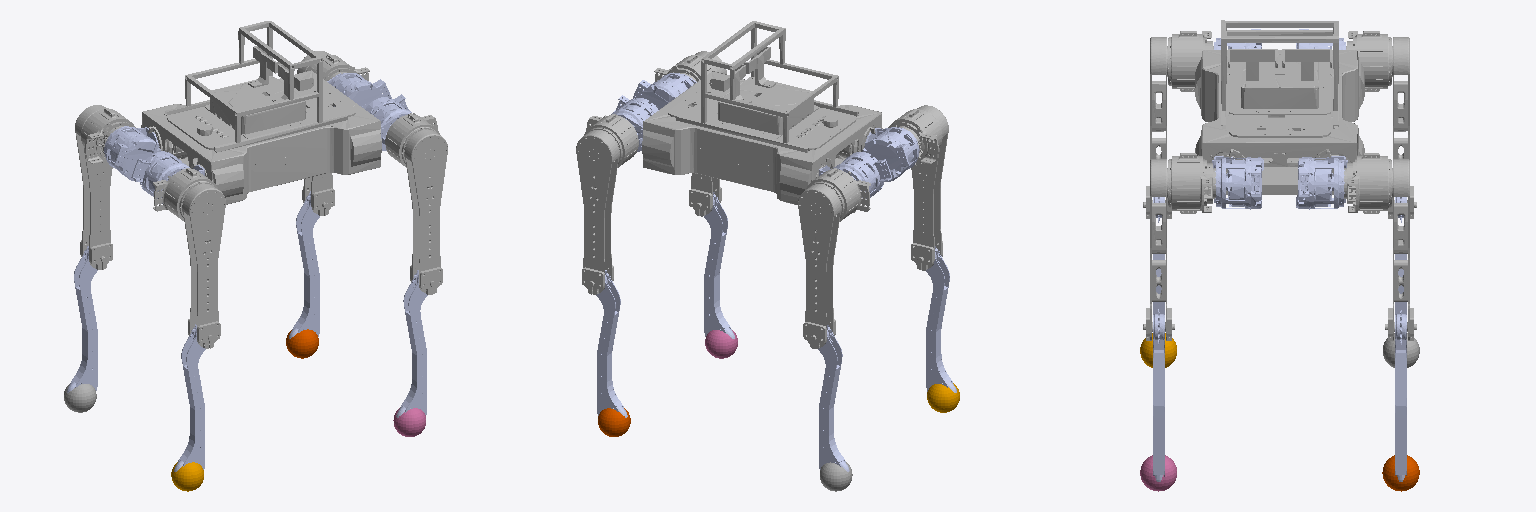
--- Facts derived from the render (not from the file) ---
3 views of the same robot in one strip: view 1: azimuth 30°, elevation 25°; view 2: azimuth 150°, elevation 25°; view 3: azimuth 270°, elevation 25° (orthographic).
Model stoch3 with 18 links and 17 joints (12 revolute, 5 fixed), rooted at base_link, posed every joint at zero.
Visible links, largest first — view 1: base_link, br_thigh_link, fr_thigh_link, bl_thigh_link, bl_shank_link, fl_shank_link, br_shank_link, fr_shank_link, bl_abd_link, fl_thigh_link, br_abd_link, fl_abd_link (+5 smaller); view 2: base_link, bl_thigh_link, fl_thigh_link, br_thigh_link, fr_shank_link, fl_shank_link, br_shank_link, bl_shank_link, br_abd_link, fr_thigh_link, bl_abd_link, fr_abd_link (+5 smaller); view 3: base_link, fr_thigh_link, fl_thigh_link, br_thigh_link, bl_thigh_link, fl_abd_link, fr_abd_link, fr_shank_link, fl_shank_link, fl_foot_link, fr_foot_link, bl_foot_link (+1 smaller).
Link boxes in pixels (x1=…): base_link: x1=141, y1=21, x2=381, y2=204; br_thigh_link: x1=153, y1=168, x2=225, y2=348; fr_thigh_link: x1=385, y1=113, x2=447, y2=294; bl_thigh_link: x1=75, y1=105, x2=135, y2=269; bl_shank_link: x1=67, y1=246, x2=97, y2=392; fl_shank_link: x1=289, y1=191, x2=319, y2=338; br_shank_link: x1=174, y1=324, x2=205, y2=471; fr_shank_link: x1=396, y1=270, x2=427, y2=417; bl_abd_link: x1=104, y1=126, x2=160, y2=181; fl_thigh_link: x1=297, y1=51, x2=369, y2=215; br_abd_link: x1=131, y1=151, x2=204, y2=203; fl_abd_link: x1=327, y1=73, x2=391, y2=108; base_link: x1=642, y1=21, x2=882, y2=204; bl_thigh_link: x1=798, y1=168, x2=870, y2=348; fl_thigh_link: x1=576, y1=114, x2=638, y2=294; br_thigh_link: x1=888, y1=105, x2=948, y2=270; fr_shank_link: x1=704, y1=192, x2=734, y2=338; fl_shank_link: x1=596, y1=270, x2=627, y2=417; br_shank_link: x1=926, y1=246, x2=956, y2=392; bl_shank_link: x1=818, y1=325, x2=849, y2=471; br_abd_link: x1=862, y1=127, x2=919, y2=181; fr_thigh_link: x1=654, y1=51, x2=726, y2=216; bl_abd_link: x1=819, y1=152, x2=891, y2=198; fr_abd_link: x1=633, y1=73, x2=696, y2=109; base_link: x1=1195, y1=20, x2=1364, y2=194; fr_thigh_link: x1=1143, y1=153, x2=1215, y2=340; fl_thigh_link: x1=1344, y1=153, x2=1416, y2=340; br_thigh_link: x1=1143, y1=31, x2=1213, y2=218; bl_thigh_link: x1=1346, y1=31, x2=1416, y2=218; fl_abd_link: x1=1296, y1=156, x2=1347, y2=209; fr_abd_link: x1=1212, y1=156, x2=1263, y2=209; fr_shank_link: x1=1153, y1=309, x2=1164, y2=481; fl_shank_link: x1=1395, y1=310, x2=1406, y2=481; fl_foot_link: x1=1382, y1=455, x2=1419, y2=491; fr_foot_link: x1=1140, y1=455, x2=1176, y2=491; bl_foot_link: x1=1383, y1=333, x2=1419, y2=367.
Size in the robot's own frame: 0.6912 by 0.5242 by 0.866 metres.
Meshes: 13 distinct files referenced, 13 mesh visuals loaded (13 binary STL).

The robot description file, URDF, robot "stoch3":
<?xml version="1.0" encoding="utf-8"?>
<!-- =================================================================================== -->
<!-- |    This document was autogenerated by xacro from stoch3.urdf.xacro              | -->
<!-- |    EDITING THIS FILE BY HAND IS NOT RECOMMENDED                                 | -->
<!-- =================================================================================== -->
<robot name="stoch3">
  <!-- <link name="world">
      </link>
  <joint name="world_joint" type="floating">
    <parent link="world"/>
    <child link="base_link"/>
  </joint> -->

  <link name="base_link">
    <inertial>
      <origin rpy="0 0 0" xyz="-0.00066643 -4.8401E-05 0.068162"/>
      <mass value="9.7565"/>
      <!--mass value="9.7565"/ -->
      <inertia ixx="0.028321" ixy="7.0431E-06" ixz="1.0437E-05" iyy="0.033624" iyz="-2.4398E-08" izz="0.053863"/>
    </inertial>
    <visual>
      <origin rpy="0 0 0" xyz="0 0 0"/>
      <geometry>
        <mesh filename="../meshes/base_link.STL"/>
      </geometry>
      <material name="">
        <color rgba="0.75294 0.75294 0.75294 1"/>
      </material>
    </visual>
    <collision>
      <origin rpy="0 0 0" xyz="0 0 0"/>
      <geometry>
        <mesh filename="../meshes/base_link.STL"/>
      </geometry>
    </collision>
  </link>
  <link name="fl_abd_link">
    <inertial>
      <origin rpy="0 0 0" xyz="0.061349 -0.019504 -7.6667E-06"/>
      <mass value="0.94517"/>
      <inertia ixx="0.00061416" ixy="5.7906E-07" ixz="-3.8412E-06" iyy="0.0010243" iyz="-1.6902E-06" izz="0.00060713"/>
    </inertial>
    <visual>
      <origin rpy="0 0 0" xyz="0 0 0"/>
      <geometry>
        <mesh filename="../meshes/fl_abd_link.STL"/>
      </geometry>
      <material name="">
        <color rgba="0.79216 0.81961 0.93333 1"/>
      </material>
    </visual>
    <collision>
      <origin rpy="0 0 0" xyz="0 0 0"/>
      <geometry>
        <mesh filename="../meshes/fl_abd_link.STL"/>
      </geometry>
    </collision>
  </link>
  <joint name="fl_abd_joint" type="revolute">
    <origin rpy="0 0 0" xyz="0.206917503877324 0.101500000000002 0.0540300000000024"/>
    <parent link="base_link"/>
    <child link="fl_abd_link"/>
    <axis xyz="1 0 0"/>
    <limit effort="100" lower="-1.5708" upper="1.5708" velocity="100"/>
  </joint>
  <link name="fl_thigh_link">
    <inertial>
      <origin rpy="0 0 0" xyz="0.0014376 0.077483 -0.055275"/>
      <mass value="2.4957"/>
      <inertia ixx="0.0049396" ixy="4.7834E-05" ixz="-3.2241E-06" iyy="0.0054131" iyz="-1.5857E-06" izz="0.0011512"/>
    </inertial>
    <visual>
      <origin rpy="0 0 0" xyz="0 0 0"/>
      <geometry>
        <mesh filename="../meshes/fl_thigh_link.STL"/>
      </geometry>
      <material name="">
        <color rgba="0.75294 0.75294 0.75294 1"/>
      </material>
    </visual>
    <collision>
      <origin rpy="0 0 0" xyz="0 0 0"/>
      <geometry>
        <mesh filename="../meshes/fl_thigh_link.STL"/>
      </geometry>
    </collision>
  </link>
  <joint name="fl_hip_joint" type="revolute">
    <origin rpy="0 -3.14584042145611E-05 0" xyz="0.06378709521538 0.0139999999999987 0"/>
    <parent link="fl_abd_link"/>
    <child link="fl_thigh_link"/>
    <axis xyz="0 1 0"/>
    <limit effort="100" lower="-1.57078" upper="3.14159" velocity="100"/>
  </joint>
  <link name="fl_shank_link">
    <inertial>
      <origin rpy="0 0 0" xyz="-0.014616 -6.6962E-07 -0.11828"/>
      <mass value="0.37918"/>
      <inertia ixx="0.0021646" ixy="5.617E-09" ixz="-4.4468E-05" iyy="0.0022225" iyz="3.9894E-08" izz="6.6686E-05"/>
    </inertial>
    <visual>
      <origin rpy="0 0 0" xyz="0 0 0"/>
      <geometry>
        <mesh filename="../meshes/fl_shank_link.STL"/>
      </geometry>
      <material name="">
        <color rgba="0.79216 0.81961 0.93333 1"/>
      </material>
    </visual>
    <collision>
      <origin rpy="0 0 0" xyz="0 0 0"/>
      <geometry>
        <mesh filename="../meshes/fl_shank_link.STL"/>
      </geometry>
    </collision>
  </link>
  <joint name="fl_knee_joint" type="revolute">
    <origin rpy="0 3.14584042149928E-05 0" xyz="0 0.111399999999998 -0.296999999853041"/>
    <parent link="fl_thigh_link"/>
    <child link="fl_shank_link"/>
    <axis xyz="0 1 0"/>
    <limit effort="100" lower="-3.14159" upper="0" velocity="100"/>
  </joint>
  <link name="fr_abd_link">
    <inertial>
      <origin rpy="0 0 0" xyz="0.06156 0.019504 -0.00021624"/>
      <mass value="0.94517"/>
      <inertia ixx="0.00061326" ixy="3.2241E-07" ixz="1.5152E-08" iyy="0.0010243" iyz="-3.8552E-06" izz="0.00060803"/>
    </inertial>
    <visual>
      <origin rpy="0 0 0" xyz="0 0 0"/>
      <geometry>
        <mesh filename="../meshes/fr_abd_link.STL"/>
      </geometry>
      <material name="">
        <color rgba="0.79216 0.81961 0.93333 1"/>
      </material>
    </visual>
    <collision>
      <origin rpy="0 0 0" xyz="0 0 0"/>
      <geometry>
        <mesh filename="../meshes/fr_abd_link.STL"/>
      </geometry>
    </collision>
  </link>
  <joint name="fr_abd_joint" type="revolute">
    <origin rpy="0 0 0" xyz="0.206925357517166 -0.101499999999999 0.0540300000000003"/>
    <parent link="base_link"/>
    <child link="fr_abd_link"/>
    <axis xyz="1 0 0"/>
    <limit effort="100" lower="-1.5708" upper="1.5708" velocity="100"/>
  </joint>
  <link name="fr_thigh_link">
    <inertial>
      <origin rpy="0 0 0" xyz="0.00144107858196152 -0.07748346487516 -0.0551703662273829"/>
      <mass value="2.49567510872212"/>
      <inertia ixx="0.00493964200419569" ixy="-4.78342957937469E-05" ixz="3.2241369041665E-06" iyy="0.00541305231980369" iyz="-1.61934782864799E-06" izz="0.00115115548345638"/>
    </inertial>
    <visual>
      <origin rpy="0 0 0" xyz="0 0 0"/>
      <geometry>
        <mesh filename="../meshes/fr_thigh_link.STL"/>
      </geometry>
      <material name="">
        <color rgba="0.752941176470588 0.752941176470588 0.752941176470588 1"/>
      </material>
    </visual>
    <collision>
      <origin rpy="0 0 0" xyz="0 0 0"/>
      <geometry>
        <mesh filename="../meshes/fr_thigh_link.STL"/>
      </geometry>
    </collision>
  </link>
  <joint name="fr_hip_joint" type="revolute">
    <origin rpy="0 3.145840420901E-05 0" xyz="0.06377924157554 -0.0139999999999988 0"/>
    <parent link="fr_abd_link"/>
    <child link="fr_thigh_link"/>
    <axis xyz="0 1 0"/>
    <limit effort="100" lower="-1.57078" upper="3.14159" velocity="100"/>
  </joint>
  <link name="fr_shank_link">
    <inertial>
      <origin rpy="0 0 0" xyz="-0.014616 -6.6962E-07 -0.11828"/>
      <mass value="0.37918"/>
      <inertia ixx="0.0021646" ixy="5.617E-09" ixz="-4.4468E-05" iyy="0.0022225" iyz="3.9894E-08" izz="6.6686E-05"/>
    </inertial>
    <visual>
      <origin rpy="0 0 0" xyz="0 0 0"/>
      <geometry>
        <mesh filename="../meshes/fr_shank_link.STL"/>
      </geometry>
      <material name="">
        <color rgba="0.79216 0.81961 0.93333 1"/>
      </material>
    </visual>
    <collision>
      <origin rpy="0 0 0" xyz="0 0 0"/>
      <geometry>
        <mesh filename="../meshes/fr_shank_link.STL"/>
      </geometry>
    </collision>
  </link>
  <joint name="fr_knee_joint" type="revolute">
    <origin rpy="0 -3.14584042085783E-05 0" xyz="0 -0.111599999999999 -0.29699999985303"/>
    <parent link="fr_thigh_link"/>
    <child link="fr_shank_link"/>
    <axis xyz="0 1 0"/>
    <limit effort="100" lower="-3.14159" upper="0" velocity="100"/>
  </joint>
  <link name="bl_abd_link">
    <inertial>
      <origin rpy="0 0 0" xyz="0.030793 -0.019504 -0.00042262"/>
      <mass value="0.94517"/>
      <inertia ixx="0.00061091" ixy="-9.6216E-07" ixz="-1.2691E-06" iyy="0.0010243" iyz="1.7068E-06" izz="0.00061038"/>
    </inertial>
    <visual>
      <origin rpy="0 0 0" xyz="0 0 0"/>
      <geometry>
        <mesh filename="../meshes/bl_abd_link.STL"/>
      </geometry>
      <material name="">
        <color rgba="0.79216 0.81961 0.93333 1"/>
      </material>
    </visual>
    <collision>
      <origin rpy="0 0 0" xyz="0 0 0"/>
      <geometry>
        <mesh filename="../meshes/bl_abd_link.STL"/>
      </geometry>
    </collision>
  </link>
  <joint name="bl_abd_joint" type="revolute">
    <origin rpy="0 0 0" xyz="-0.299402452130055 0.101499999999997 0.0540300000000009"/>
    <parent link="base_link"/>
    <child link="bl_abd_link"/>
    <axis xyz="1 0 0"/>
    <limit effort="100" lower="-1.5708" upper="1.5708" velocity="100"/>
  </joint>
  <link name="bl_thigh_link">
    <inertial>
      <origin rpy="0 0 0" xyz="-0.00144107858108192 0.0774834648849106 -0.0551703662338023"/>
      <mass value="2.49567510818258"/>
      <inertia ixx="0.00493964200383586" ixy="-4.78342957989956E-05" ixz="-3.22413680518202E-06" iyy="0.0054130523194199" iyz="1.61934780851157E-06" izz="0.00115115548343042"/>
    </inertial>
    <visual>
      <origin rpy="0 0 0" xyz="0 0 0"/>
      <geometry>
        <mesh filename="../meshes/bl_thigh_link.STL"/>
      </geometry>
      <material name="">
        <color rgba="0.752941176470588 0.752941176470588 0.752941176470588 1"/>
      </material>
    </visual>
    <collision>
      <origin rpy="0 0 0" xyz="0 0 0"/>
      <geometry>
        <mesh filename="../meshes/bl_thigh_link.STL"/>
      </geometry>
    </collision>
  </link>
  <joint name="bl_hip_joint" type="revolute">
    <origin rpy="0 -3.14584042145611E-05 0" xyz="0.0286978530373435 0.0139999999999997 0"/>
    <parent link="bl_abd_link"/>
    <child link="bl_thigh_link"/>
    <axis xyz="0 1 0"/>
    <limit effort="100" lower="-1.57078" upper="3.14159" velocity="100"/>
  </joint>
  <link name="bl_shank_link">
    <inertial>
      <origin rpy="0 0 0" xyz="-0.014616 -6.6962E-07 -0.11828"/>
      <mass value="0.37918"/>
      <inertia ixx="0.0021646" ixy="5.617E-09" ixz="-4.4468E-05" iyy="0.0022225" iyz="3.9894E-08" izz="6.6686E-05"/>
    </inertial>
    <visual>
      <origin rpy="0 0 0" xyz="0 0 0"/>
      <geometry>
        <mesh filename="../meshes/bl_shank_link.STL"/>
      </geometry>
      <material name="">
        <color rgba="0.79216 0.81961 0.93333 1"/>
      </material>
    </visual>
    <collision>
      <origin rpy="0 0 0" xyz="0 0 0"/>
      <geometry>
        <mesh filename="../meshes/bl_shank_link.STL"/>
      </geometry>
    </collision>
  </link>
  <joint name="bl_knee_joint" type="revolute">
    <origin rpy="0 3.14584042094417E-05 0" xyz="0 0.111599999999496 -0.29699999985304"/>
    <parent link="bl_thigh_link"/>
    <child link="bl_shank_link"/>
    <axis xyz="0 1 0"/>
    <limit effort="100" lower="-3.14159" upper="0" velocity="100"/>
  </joint>
  <link name="br_abd_link">
    <inertial>
      <origin rpy="0 0 0" xyz="0.031108 0.019504 -1.7708E-05"/>
      <mass value="0.94517"/>
      <inertia ixx="0.00061475" ixy="8.7419E-07" ixz="3.1106E-06" iyy="0.0010243" iyz="1.7938E-06" izz="0.00060654"/>
    </inertial>
    <visual>
      <origin rpy="0 0 0" xyz="0 0 0"/>
      <geometry>
        <mesh filename="../meshes/br_abd_link.STL"/>
      </geometry>
      <material name="">
        <color rgba="0.79216 0.81961 0.93333 1"/>
      </material>
    </visual>
    <collision>
      <origin rpy="0 0 0" xyz="0 0 0"/>
      <geometry>
        <mesh filename="../meshes/br_abd_link.STL"/>
      </geometry>
    </collision>
  </link>
  <joint name="br_abd_joint" type="revolute">
    <origin rpy="0 0 0" xyz="-0.299402452130055 -0.101500000000005 0.0540300000000005"/>
    <parent link="base_link"/>
    <child link="br_abd_link"/>
    <axis xyz="1 0 0"/>
    <limit effort="100" lower="-1.5708" upper="1.5708" velocity="100"/>
  </joint>
  <link name="br_thigh_link">
    <inertial>
      <origin rpy="0 0 0" xyz="-0.00150303818321485 -0.0774834645949825 -0.0552213173300917"/>
      <mass value="2.49567512655825"/>
      <inertia ixx="0.0049362160738861" ixy="4.96261951245898E-05" ixz="2.5269174510805E-06" iyy="0.00541305233737715" iyz="1.18125628096648E-07" izz="0.00115458143484649"/>
    </inertial>
    <visual>
      <origin rpy="0 0 0" xyz="0 0 0"/>
      <geometry>
        <mesh filename="../meshes/br_thigh_link.STL"/>
      </geometry>
      <material name="">
        <color rgba="0.752941176470588 0.752941176470588 0.752941176470588 1"/>
      </material>
    </visual>
    <collision>
      <origin rpy="0 0 0" xyz="0 0 0"/>
      <geometry>
        <mesh filename="../meshes/br_thigh_link.STL"/>
      </geometry>
    </collision>
  </link>
  <joint name="br_hip_joint" type="revolute">
    <origin rpy="0 3.14584042201122E-05 0" xyz="0.0286978530373517 -0.0139999999999956 0"/>
    <parent link="br_abd_link"/>
    <child link="br_thigh_link"/>
    <axis xyz="0 1 0"/>
    <limit effort="100" lower="-1.57078" upper="3.14159" velocity="100"/>
  </joint>
  <link name="br_shank_link">
    <inertial>
      <origin rpy="0 0 0" xyz="-0.014616 -6.6962E-07 -0.11828"/>
      <mass value="0.37918"/>
      <inertia ixx="0.0021646" ixy="5.617E-09" ixz="-4.4468E-05" iyy="0.0022225" iyz="3.9894E-08" izz="6.6686E-05"/>
    </inertial>
    <visual>
      <origin rpy="0 0 0" xyz="0 0 0"/>
      <geometry>
        <mesh filename="../meshes/br_shank_link.STL"/>
      </geometry>
      <material name="">
        <color rgba="0.79216 0.81961 0.93333 1"/>
      </material>
    </visual>
    <collision>
      <origin rpy="0 0 0" xyz="0 0 0"/>
      <geometry>
        <mesh filename="../meshes/br_shank_link.STL"/>
      </geometry>
    </collision>
  </link>
  <joint name="br_knee_joint" type="revolute">
    <origin rpy="0 -3.14584042141294E-05 0" xyz="0 -0.111600000000005 -0.296999999853014"/>
    <parent link="br_thigh_link"/>
    <child link="br_shank_link"/>
    <axis xyz="0 1 0"/>
    <limit effort="100" lower="-3.14159" upper="0" velocity="100"/>
  </joint>
  <link name="fl_foot_link">
    <visual>
      <origin rpy="0 0 0" xyz="-0.04 0 -0.02"/>
      <geometry>
        <sphere radius="0.035"/>
      </geometry>
    </visual>
    <collision>
      <origin rpy="0 0 0" xyz="-0.04 0 -0.02"/>
      <geometry>
        <sphere radius="0.035"/>
      </geometry>
    </collision>
    <inertial>
      <origin rpy="0 0 0" xyz="-0.04 0 -0.02"/>
      <mass value="0.05"/>
      <inertia ixx="1E-7" ixy ="0" ixz = "0" iyy="1E-7" iyz="0"  izz="1E-7"/>
    </inertial>
  </link>
  <joint name="fl_ankle_joint" type="fixed" dont_collapse="true">
    <parent link="fl_shank_link"/>
    <child link="fl_foot_link"/>
    <origin rpy="0 0 0" xyz="0 0 -0.3"/>
  </joint>
  <link name="fr_foot_link">
    <visual>
      <origin rpy="0 0 0" xyz="-0.04 0 -0.02"/>
      <geometry>
        <sphere radius="0.035"/>
      </geometry>
    </visual>
    <collision>
      <origin rpy="0 0 0" xyz="-0.04 0 -0.02"/>
      <geometry>
        <sphere radius="0.035"/>
      </geometry>
    </collision>
   <inertial>
      <origin rpy="0 0 0" xyz="-0.04 0 -0.02"/>
      <mass value="0.05"/>
      <inertia ixx="1E-7" ixy ="0" ixz = "0" iyy="1E-7" iyz="0"  izz="1E-7"/>
    </inertial>

  </link>  
  <joint name="fr_ankle_joint" type="fixed" dont_collapse="true">
    <parent link="fr_shank_link"/>
    <child link="fr_foot_link"/>
    <origin rpy="0 0 0" xyz="0 0 -0.3"/>
  </joint>
  <link name="bl_foot_link">
    <visual>
      <origin rpy="0 0 0" xyz="-0.04 0 -0.02"/>
      <geometry>
        <sphere radius="0.035"/>
      </geometry>
    </visual>
    <collision>
      <origin rpy="0 0 0" xyz="-0.04 0 -0.02"/>
      <geometry>
        <sphere radius="0.035"/>
      </geometry>
    </collision>
   <inertial>
      <origin rpy="0 0 0" xyz="-0.04 0 -0.02"/>
      <mass value="0.05"/>
      <inertia ixx="1E-7" ixy ="0" ixz = "0" iyy="1E-7" iyz="0"  izz="1E-7"/>
    </inertial>
  </link>  
  <joint name="bl_ankle_joint" type="fixed" dont_collapse="true">
    <parent link="bl_shank_link"/>
    <child link="bl_foot_link"/>
    <origin rpy="0 0 0" xyz="0 0 -0.3"/>
  </joint>
  <link name="br_foot_link">
      <visual>
      <origin rpy="0 0 0" xyz="-0.04 0 -0.02"/>
      <geometry>
        <sphere radius="0.035"/>
      </geometry>
    </visual>
    <collision>
      <origin rpy="0 0 0" xyz="-0.04 0 -0.02"/>
      <geometry>
        <sphere radius="0.035"/>
      </geometry>
    </collision>

   <inertial>
      <origin rpy="0 0 0" xyz="-0.04 0 -0.02"/>
      <mass value="0.05"/>
      <inertia ixx="1E-7" ixy ="0" ixz = "0" iyy="1E-7" iyz="0"  izz="1E-7"/>
    </inertial>

  </link>  
  <joint name="br_ankle_joint" type="fixed" dont_collapse="true">
    <parent link="br_shank_link"/>
    <child link="br_foot_link"/>
    <origin rpy="0 0 0" xyz="0 0 -0.3"/>
  </joint>
  <transmission name="fl_abd_trans">
    <type>transmission_interface/SimpleTransmission</type>
    <joint name="fl_abd_joint">
      <hardwareInterface>hardware_interface/PosVelEffJointInterface</hardwareInterface>
    </joint>
    <actuator name="fl_abd_motor">
      <mechanicalReduction>1</mechanicalReduction>
    </actuator>
  </transmission>
  <transmission name="fl_hip_trans">
    <type>transmission_interface/SimpleTransmission</type>
    <joint name="fl_hip_joint">
      <hardwareInterface>hardware_interface/PosVelEffJointInterface</hardwareInterface>
    </joint>
    <actuator name="fl_hip_motor">
      <mechanicalReduction>1</mechanicalReduction>
    </actuator>
  </transmission>
  <transmission name="fl_knee_trans">
    <type>transmission_interface/SimpleTransmission</type>
    <joint name="fl_knee_joint">
      <hardwareInterface>hardware_interface/PosVelEffJointInterface</hardwareInterface>
    </joint>
    <actuator name="fl_knee_motor">
      <mechanicalReduction>1</mechanicalReduction>
    </actuator>
  </transmission>
  <transmission name="bl_abd_trans">
    <type>transmission_interface/SimpleTransmission</type>
    <joint name="bl_abd_joint">
      <hardwareInterface>hardware_interface/PosVelEffJointInterface</hardwareInterface>
    </joint>
    <actuator name="bl_abd_motor">
      <mechanicalReduction>1</mechanicalReduction>
    </actuator>
  </transmission>
  <transmission name="bl_hip_trans">
    <type>transmission_interface/SimpleTransmission</type>
    <joint name="bl_hip_joint">
      <hardwareInterface>hardware_interface/PosVelEffJointInterface</hardwareInterface>
    </joint>
    <actuator name="bl_hip_motor">
      <mechanicalReduction>1</mechanicalReduction>
    </actuator>
  </transmission>
  <transmission name="bl_knee_trans">
    <type>transmission_interface/SimpleTransmission</type>
    <joint name="bl_knee_joint">
      <hardwareInterface>hardware_interface/PosVelEffJointInterface</hardwareInterface>
    </joint>
    <actuator name="bl_knee_motor">
      <mechanicalReduction>1</mechanicalReduction>
    </actuator>
  </transmission>
  <transmission name="fr_abd_trans">
    <type>transmission_interface/SimpleTransmission</type>
    <joint name="fr_abd_joint">
      <hardwareInterface>hardware_interface/PosVelEffJointInterface</hardwareInterface>
    </joint>
    <actuator name="fr_abd_motor">
      <mechanicalReduction>1</mechanicalReduction>
    </actuator>
  </transmission>
  <transmission name="fr_hip_trans">
    <type>transmission_interface/SimpleTransmission</type>
    <joint name="fr_hip_joint">
      <hardwareInterface>hardware_interface/PosVelEffJointInterface</hardwareInterface>
    </joint>
    <actuator name="fr_hip_motor">
      <mechanicalReduction>1</mechanicalReduction>
    </actuator>
  </transmission>
  <transmission name="fr_knee_trans">
    <type>transmission_interface/SimpleTransmission</type>
    <joint name="fr_knee_joint">
      <hardwareInterface>hardware_interface/PosVelEffJointInterface</hardwareInterface>
    </joint>
    <actuator name="fr_knee_motor">
      <mechanicalReduction>1</mechanicalReduction>
    </actuator>
  </transmission>
  <transmission name="br_abd_trans">
    <type>transmission_interface/SimpleTransmission</type>
    <joint name="br_abd_joint">
      <hardwareInterface>hardware_interface/PosVelEffJointInterface</hardwareInterface>
    </joint>
    <actuator name="br_abd_motor">
      <mechanicalReduction>1</mechanicalReduction>
    </actuator>
  </transmission>
  <transmission name="br_hip_trans">
    <type>transmission_interface/SimpleTransmission</type>
    <joint name="br_hip_joint">
      <hardwareInterface>hardware_interface/PosVelEffJointInterface</hardwareInterface>
    </joint>
    <actuator name="br_hip_motor">
      <mechanicalReduction>1</mechanicalReduction>
    </actuator>
  </transmission>
  <transmission name="br_knee_trans">
    <type>transmission_interface/SimpleTransmission</type>
    <joint name="br_knee_joint">
      <hardwareInterface>hardware_interface/PosVelEffJointInterface</hardwareInterface>
    </joint>
    <actuator name="br_knee_motor">
      <mechanicalReduction>1</mechanicalReduction>
    </actuator>
  </transmission>
  <gazebo reference="base_link_link">
    <material>Gazebo/White</material>
    <kp>10000000.0</kp>
    <kd>1.0</kd>
    <mu1>4.0</mu1>
    <mu2>4.0</mu2>
    <maxVel>0.0</maxVel>
    <minDepth>0.001</minDepth>
  </gazebo>
  <gazebo reference="fl_abd_link">
    <material>Gazebo/Grey</material>
    <kp>10000000.0</kp>
    <kd>1.0</kd>
    <mu1>4.0</mu1>
    <mu2>4.0</mu2>
    <maxVel>0.0</maxVel>
    <minDepth>0.001</minDepth>
  </gazebo>
  <gazebo reference="bl_abd_link">
    <material>Gazebo/Grey</material>
    <kp>10000000.0</kp>
    <kd>1.0</kd>
    <mu1>4.0</mu1>
    <mu2>4.0</mu2>
    <maxVel>0.0</maxVel>
    <minDepth>0.001</minDepth>
  </gazebo>
  <gazebo reference="fr_abd_link">
    <material>Gazebo/Grey</material>
    <kp>10000000.0</kp>
    <kd>1.0</kd>
    <mu1>4.0</mu1>
    <mu2>4.0</mu2>
    <maxVel>0.0</maxVel>
    <minDepth>0.001</minDepth>
  </gazebo>
  <gazebo reference="br_abd_link">
    <material>Gazebo/Grey</material>
    <kp>10000000.0</kp>
    <kd>1.0</kd>
    <mu1>4.0</mu1>
    <mu2>4.0</mu2>
    <maxVel>0.0</maxVel>
    <minDepth>0.001</minDepth>
  </gazebo>
  <gazebo reference="fl_thigh_link">
    <material>Gazebo/DarkGrey</material>
    <kp>10000000.0</kp>
    <kd>1.0</kd>
    <mu1>4.0</mu1>
    <mu2>4.0</mu2>
    <maxVel>0.0</maxVel>
    <minDepth>0.001</minDepth>
  </gazebo>
  <gazebo reference="bl_thigh_link">
    <material>Gazebo/DarkGrey</material>
    <kp>10000000.0</kp>
    <kd>1.0</kd>
    <mu1>4.0</mu1>
    <mu2>4.0</mu2>
    <maxVel>0.0</maxVel>
    <minDepth>0.001</minDepth>
  </gazebo>
  <gazebo reference="fr_thigh_link">
    <material>Gazebo/DarkGrey</material>
    <kp>10000000.0</kp>
    <kd>1.0</kd>
    <mu1>4.0</mu1>
    <mu2>4.0</mu2>
    <maxVel>0.0</maxVel>
    <minDepth>0.001</minDepth>
  </gazebo>
  <gazebo reference="br_thigh_link">
    <material>Gazebo/DarkGrey</material>
    <kp>10000000.0</kp>
    <kd>1.0</kd>
    <mu1>4.0</mu1>
    <mu2>4.0</mu2>
    <maxVel>0.0</maxVel>
    <minDepth>0.001</minDepth>
  </gazebo>
  <gazebo reference="fl_shank_link">
    <material>Gazebo/Grey</material>
    <kp>10000000.0</kp>
    <kd>1.0</kd>
    <mu1>4.0</mu1>
    <mu2>4.0</mu2>
    <maxVel>0.0</maxVel>
    <minDepth>0.001</minDepth>
  </gazebo>
  <gazebo reference="bl_shank_link">
    <material>Gazebo/Grey</material>
    <kp>10000000.0</kp>
    <kd>1.0</kd>
    <mu1>4.0</mu1>
    <mu2>4.0</mu2>
    <maxVel>0.0</maxVel>
    <minDepth>0.001</minDepth>
  </gazebo>
  <gazebo reference="fr_shank_link">
    <material>Gazebo/Grey</material>
    <kp>10000000.0</kp>
    <kd>1.0</kd>
    <mu1>4.0</mu1>
    <mu2>4.0</mu2>
    <maxVel>0.0</maxVel>
    <minDepth>0.001</minDepth>
  </gazebo>
  <gazebo reference="br_shank_link">
    <material>Gazebo/Grey</material>
    <kp>10000000.0</kp>
    <kd>1.0</kd>
    <mu1>4.0</mu1>
    <mu2>4.0</mu2>
    <maxVel>0.0</maxVel>
    <minDepth>0.001</minDepth>
  </gazebo>
  <!-- Enable the Joint Control -->
  <gazebo>
    <plugin filename="libgazebo_ros_control.so" name="gazebo_ros_control">
      <legacyModeNS>true</legacyModeNS>
      <robotNamespace>stoch3</robotNamespace>
      <robotSimType>stoch3_gazebo/Stoch3RobotHWSim</robotSimType>
    </plugin>
  </gazebo>
  <gazebo>
    <self_collide>1</self_collide>
  </gazebo>
  <!--
        <gazebo>
            <plugin filename="libgazebo_ros_p3d.so" name="p3d_base_controller">
                <alwaysOn>true</alwaysOn>
                <updateRate>10.0</updateRate>
                <bodyName>base_link</bodyName>
                <topicName>odom/ground_truth</topicName>
                <gaussianNoise>0.01</gaussianNoise>
                <frameName>world</frameName>
                <xyzOffsets>0 0 0</xyzOffsets>
                <rpyOffsets>0 0 0</rpyOffsets>
            </plugin>
        </gazebo>
        -->
  <link name="imu_link_1">
    <inertial>
      <mass value="0.001"/>
      <origin rpy="0 0 0" xyz="0 0 0"/>
      <inertia ixx="1e-09" ixy="0.0" ixz="0.0" iyy="1e-09" iyz="0.0" izz="1e-09"/>
    </inertial>
    <visual>
      <origin rpy="0 0 0" xyz="0 0 0"/>
      <geometry>
        <box size="0.005 0.005 0.005"/>
      </geometry>
      <material name="">
        <color rgba="0.6 0.8 0.1 1"/>
      </material>
    </visual>
  </link>
  <joint name="imu_joint_1" type="fixed">
    <parent link="base_link"/>
    <child link="imu_link_1"/>
    <origin rpy="0.0 0.0 0.0" xyz="0.0 0.0 0.005"/>
  </joint>
  <gazebo>
    <plugin filename="libhector_gazebo_ros_imu.so" name="imu_1_controller">
      <updateRate>100</updateRate>
      <bodyName>imu_link_1</bodyName>
      <topicName>sensors/imu_1</topicName>
      <accelDrift>0.005 0.005 0.005</accelDrift>
      <accelGaussianNoise>0.005 0.005 0.005</accelGaussianNoise>
      <rateDrift>0.005 0.005 0.005 </rateDrift>
      <rateGaussianNoise>0.005 0.005 0.005</rateGaussianNoise>
      <headingDrift>0.005</headingDrift>
      <headingGaussianNoise>0.005</headingGaussianNoise>
    </plugin>
    <material>Gazebo/Yellow</material>
  </gazebo>
</robot>
